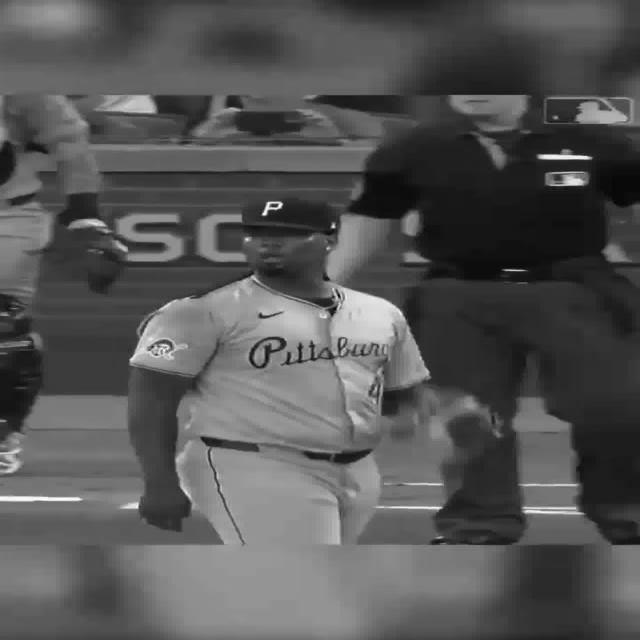baseball_glove: (395, 396, 508, 461), (34, 228, 126, 296)
